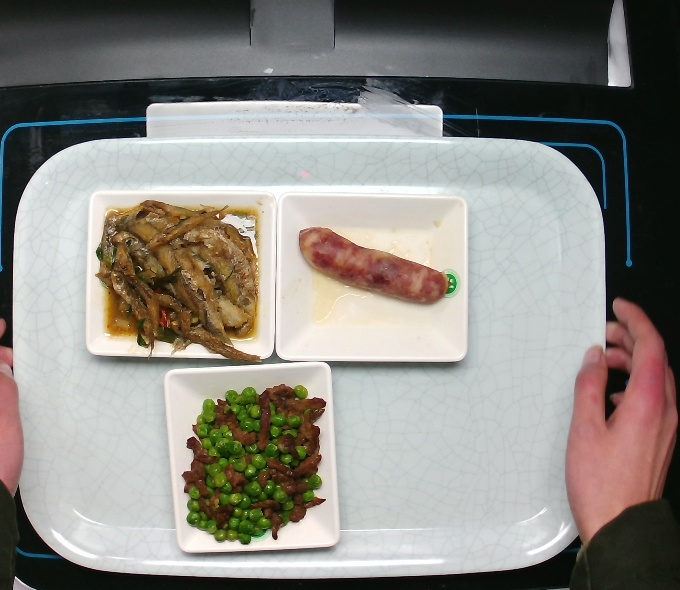wcq-CanDouNiuRou: (171, 367, 340, 548)
wcq-XiangChang: (286, 211, 457, 330)
wcq-XiaoJiYu: (89, 187, 271, 365)
